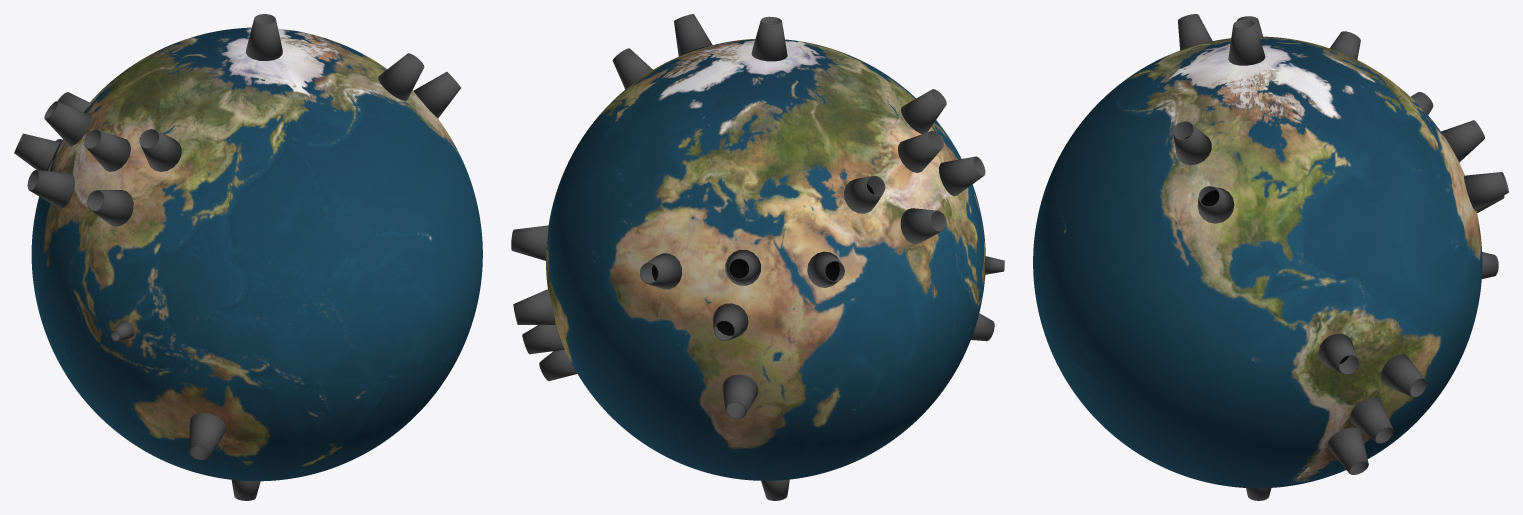
File: earth.glb
3 views of the same model, side by side, from view 1: azimuth 30°, elevation 25°; view 2: azimuth 150°, elevation 25°; view 3: azimuth 270°, elevation 25° (orthographic). The views are drawn at different scales.
Visible parts, largest first — view 1: Sphere_2, Cylinder.018, Cylinder.019, Cylinder.007, Cylinder.008, Cylinder.009, Cylinder.011, Cylinder.006, Cylinder.010, Cylinder.012, Cylinder.005; view 2: Sphere_2, Cylinder.008, Cylinder.009, Cylinder.007, Cylinder.018, Cylinder.010, Cylinder.004, Cylinder.006, Cylinder.001, Cylinder.014, Cylinder.003, Cylinder.005 (+6 smaller); view 3: Sphere_2, Cylinder.016, Cylinder.015, Cylinder.014, Cylinder.018, Cylinder.011, Cylinder.013, Cylinder.001, Cylinder.012, Cylinder.002, Cylinder.010, Cylinder.006.
Boxes of the visible parts, left/top/right/bottom form: Sphere_2: left=31, top=27, right=482, bottom=481; Cylinder.018: left=245, top=14, right=282, bottom=61; Cylinder.019: left=189, top=413, right=225, bottom=460; Cylinder.007: left=27, top=170, right=74, bottom=208; Cylinder.008: left=84, top=129, right=130, bottom=171; Cylinder.009: left=87, top=190, right=133, bottom=226; Cylinder.011: left=378, top=53, right=424, bottom=100; Cylinder.006: left=44, top=101, right=91, bottom=146; Cylinder.010: left=139, top=129, right=181, bottom=171; Cylinder.012: left=413, top=72, right=460, bottom=118; Cylinder.005: left=14, top=133, right=60, bottom=170; Sphere_2: left=546, top=39, right=985, bottom=480; Cylinder.008: left=897, top=130, right=943, bottom=172; Cylinder.009: left=939, top=156, right=985, bottom=196; Cylinder.007: left=900, top=208, right=946, bottom=244; Cylinder.018: left=751, top=16, right=787, bottom=61; Cylinder.010: left=901, top=89, right=946, bottom=133; Cylinder.004: left=722, top=374, right=758, bottom=418; Cylinder.006: left=844, top=175, right=885, bottom=213; Cylinder.001: left=640, top=253, right=681, bottom=289; Cylinder.014: left=513, top=289, right=555, bottom=324; Cylinder.003: left=712, top=303, right=748, bottom=340; Cylinder.005: left=807, top=251, right=844, bottom=287; Sphere_2: left=1033, top=36, right=1482, bottom=488; Cylinder.016: left=1327, top=427, right=1368, bottom=474; Cylinder.015: left=1350, top=397, right=1393, bottom=443; Cylinder.014: left=1380, top=354, right=1426, bottom=397; Cylinder.018: left=1228, top=19, right=1265, bottom=65; Cylinder.011: left=1173, top=121, right=1211, bottom=165; Cylinder.013: left=1318, top=333, right=1358, bottom=374; Cylinder.001: left=1464, top=172, right=1508, bottom=210; Cylinder.012: left=1197, top=186, right=1234, bottom=223; Cylinder.002: left=1441, top=120, right=1484, bottom=162; Cylinder.010: left=1178, top=14, right=1212, bottom=50; Cylinder.006: left=1329, top=31, right=1360, bottom=59.
Bounding box in the file's own units: 2.13 × 2.32 × 2.09.
Materials: 3 (1 with a texture image).
